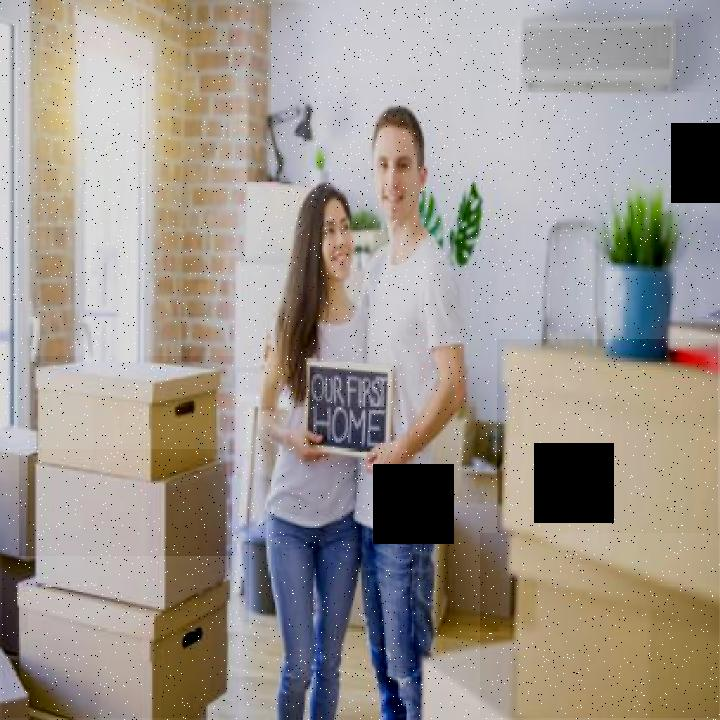box: (497, 339, 718, 625), (480, 533, 719, 718), (19, 449, 249, 622), (2, 556, 239, 718), (30, 356, 240, 487)
